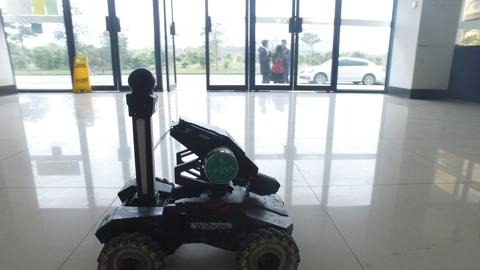chariot: (89, 67, 312, 270)
